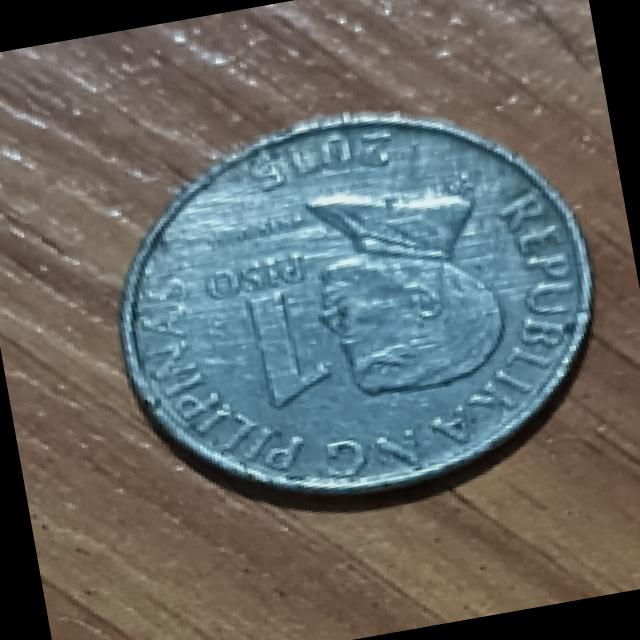1_peso: (119, 114, 589, 491)
